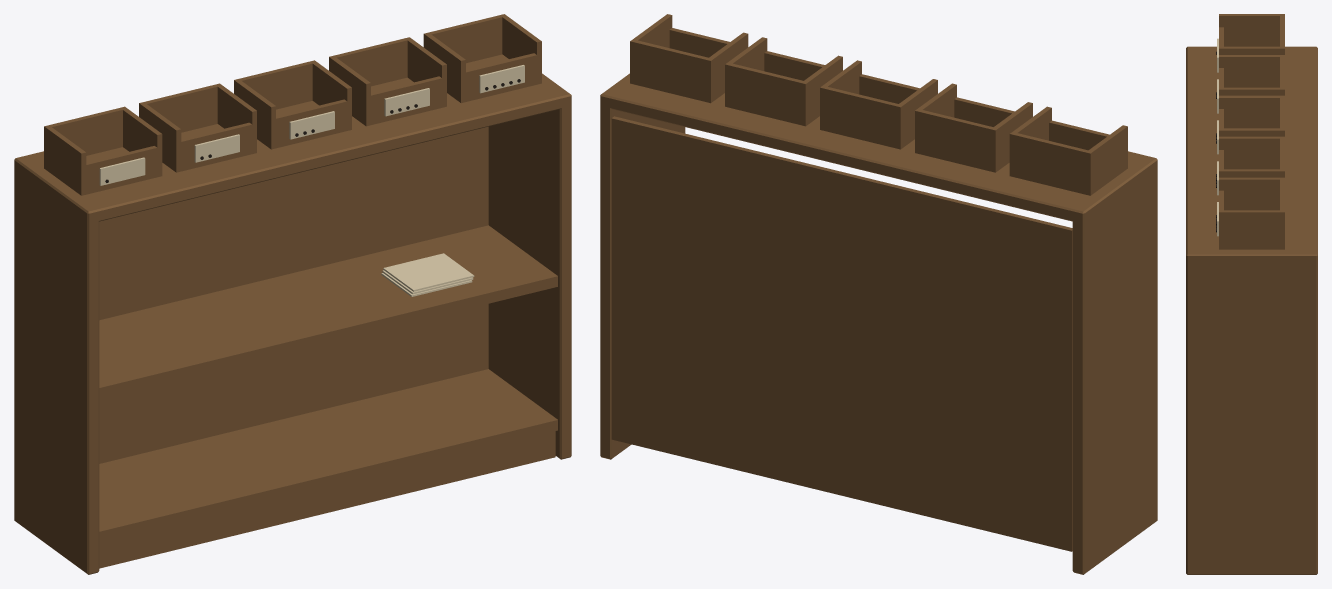
Rendered from Prop_YTM_CardShelf.glb.
The picture shows the model from 3 angles, left to right: view 1: azimuth 30°, elevation 25°; view 2: azimuth 150°, elevation 25°; view 3: azimuth 270°, elevation 25°; orthographic projection. The views are drawn at different scales.
Visible parts, largest first — view 1: Prop_YTM_CardShelf; view 2: Prop_YTM_CardShelf; view 3: Prop_YTM_CardShelf.
Boxes of the visible parts, bbox=[...] form: Prop_YTM_CardShelf: bbox=[14, 14, 571, 574]; Prop_YTM_CardShelf: bbox=[600, 14, 1157, 574]; Prop_YTM_CardShelf: bbox=[1186, 14, 1317, 574].
Size of what is drawn, in the model's own units: 1.2 by 0.96 by 0.32.
